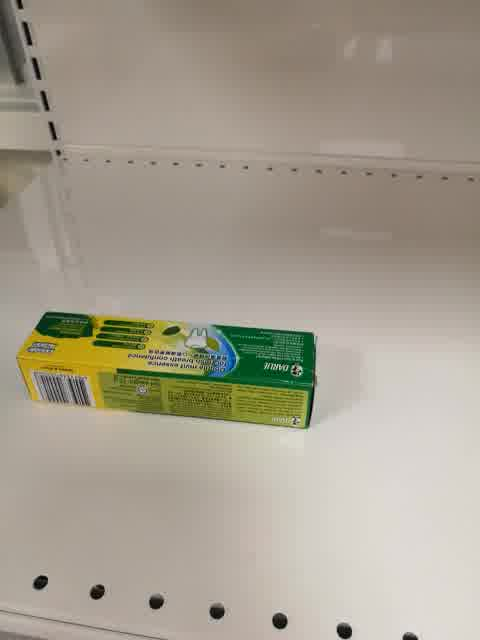toothpaste: (14, 310, 319, 434)
